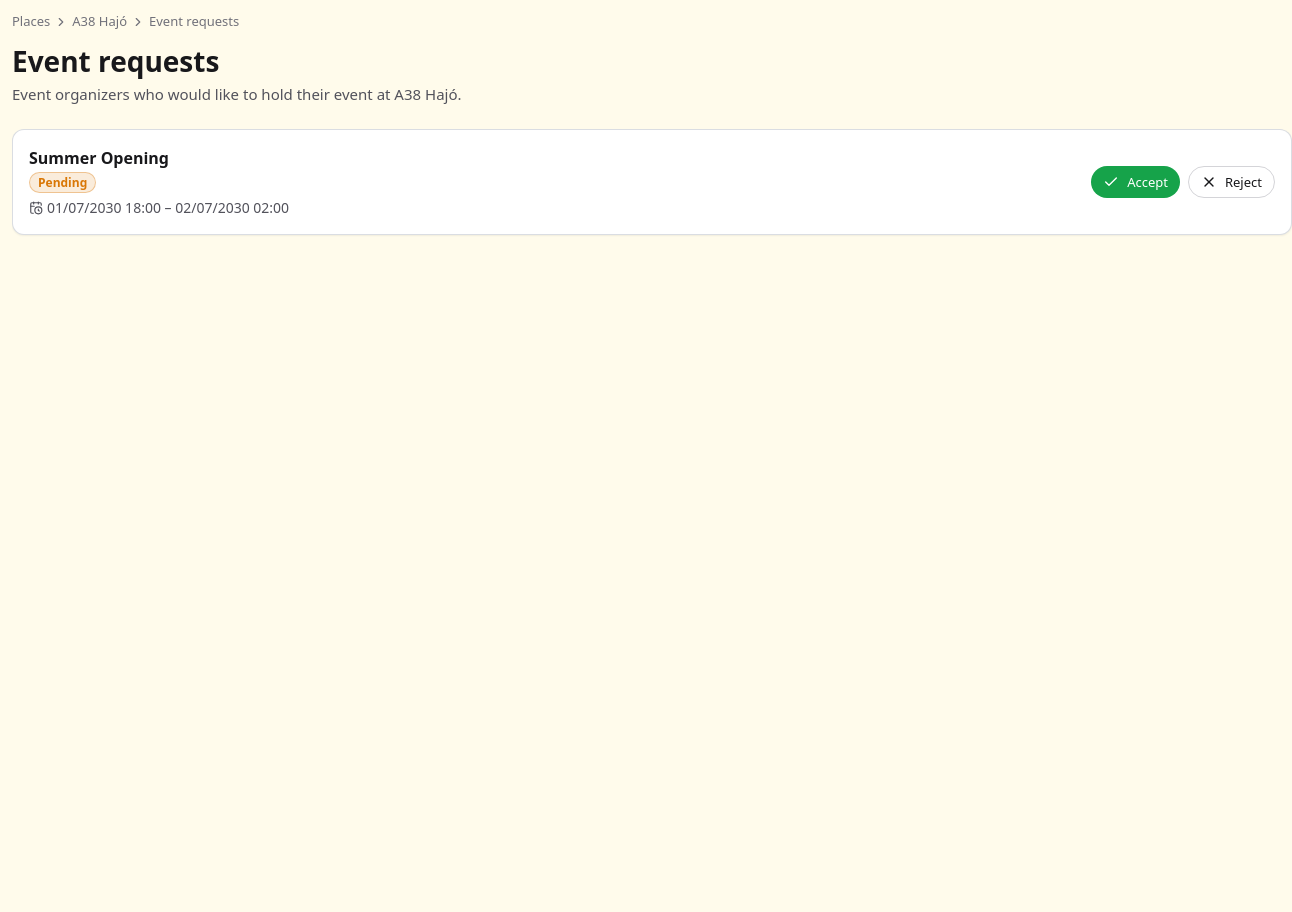
Test: SinglePlaceRequestsPage › lists the place's requests and answers one
Check: the heading "Event requests" is shown, box top-left (12, 42), bottom-right (219, 80)
Click the button with aria-label "Reject Summer Opening". click: coordinates (1232, 182)
box: top-left (1188, 166), bottom-right (1275, 198)
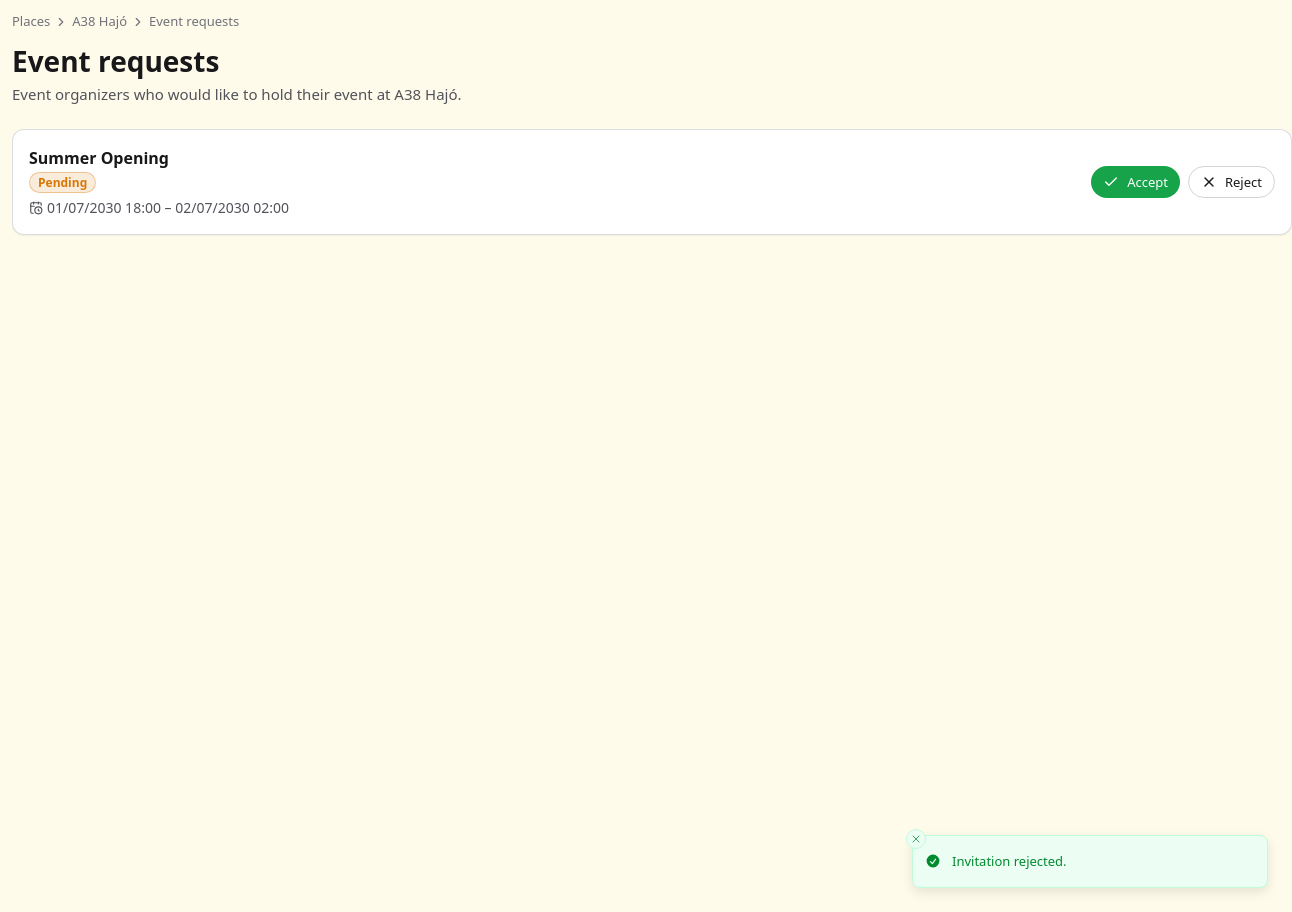
Check: the text "Invitation rejected." is shown, box top-left (952, 852), bottom-right (1067, 871)
